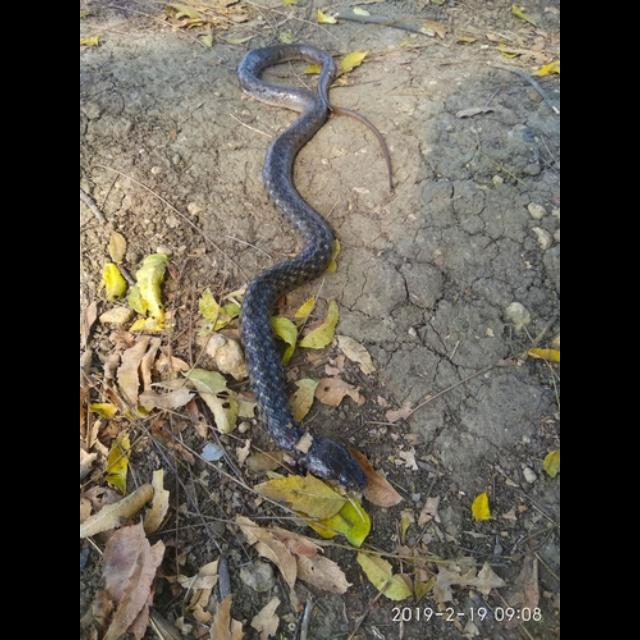snake: (232, 37, 372, 496)
